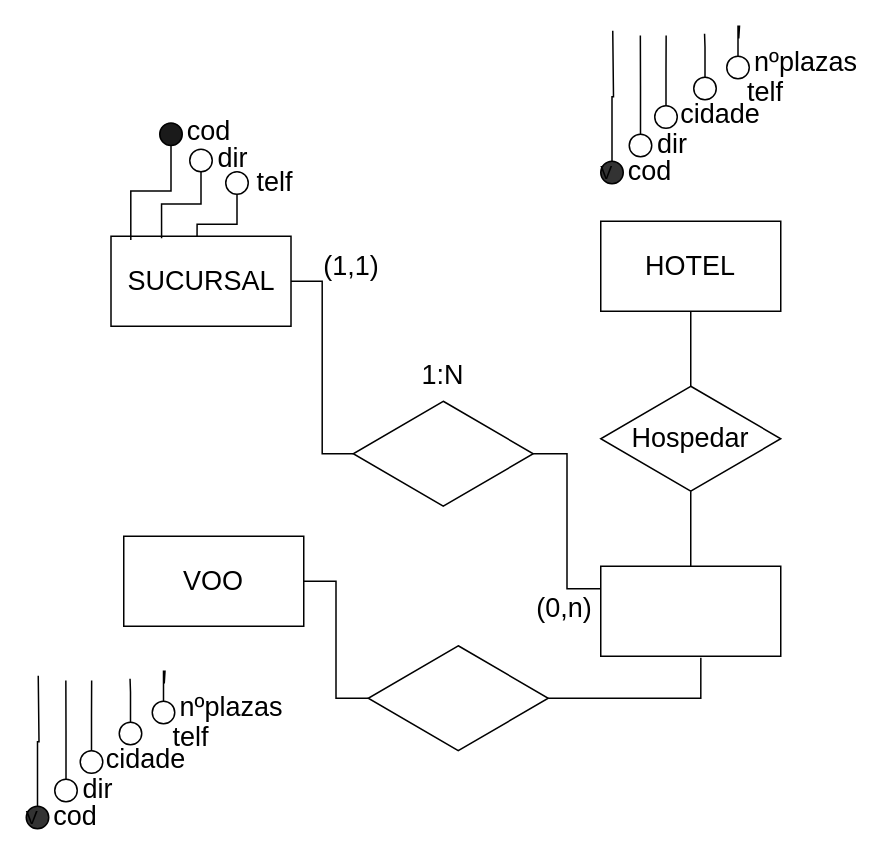
Some shapes in this 884 by 858 pixel diagram are drawn without their labels. Here are the shapes that lost their labels. From the top down, the centre of each, then its label:
(x=442, y=453): Contratar
(x=690, y=610): TURISTA
(x=457, y=697): Elejir
